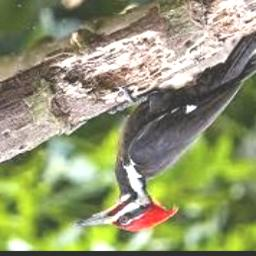Woodpecker: (75, 13, 256, 233)
